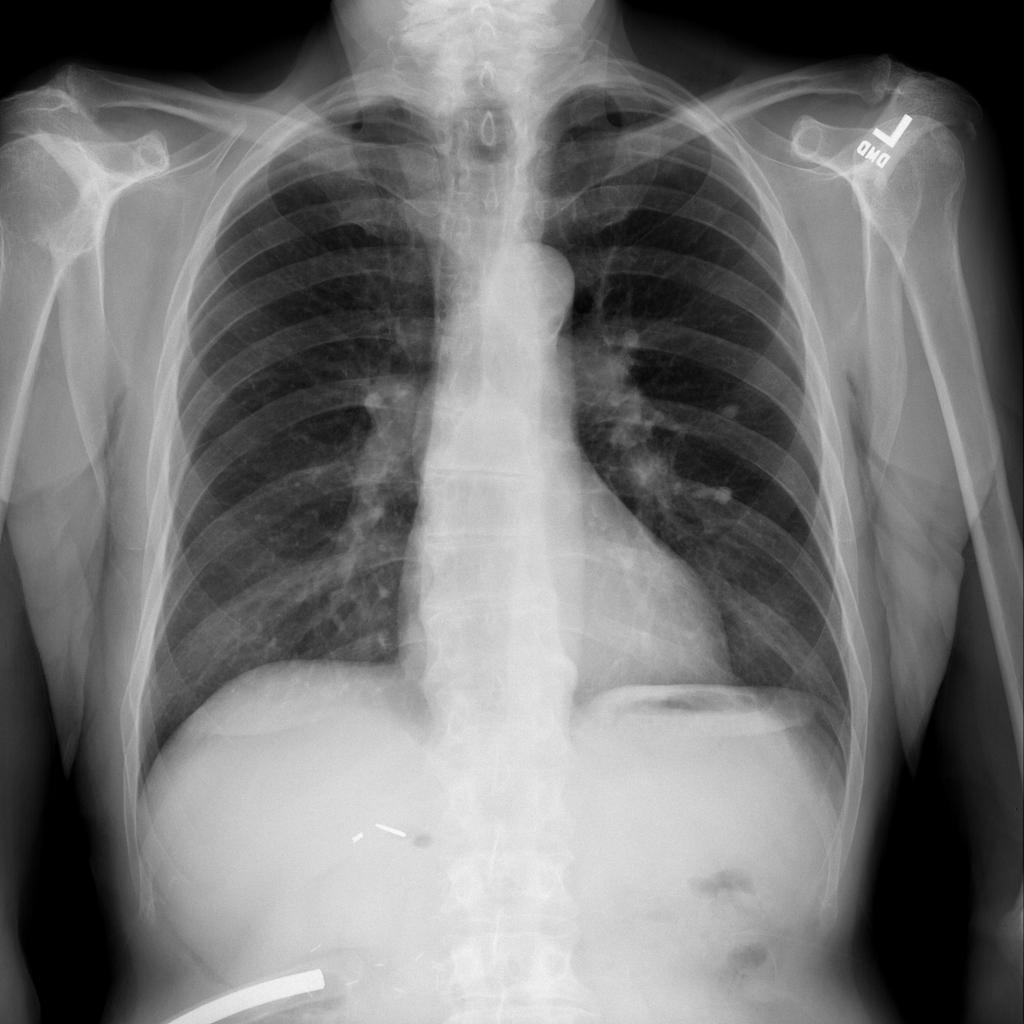nodule: (707, 388, 758, 437), (705, 478, 743, 514)
